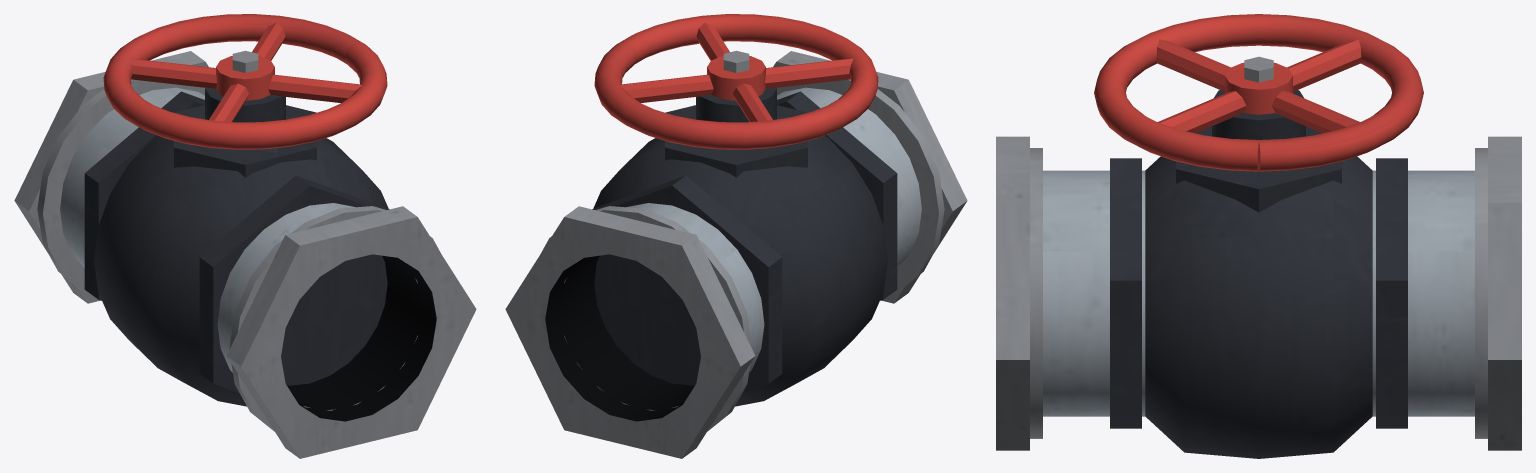
Rendered from valve.glb.
3 views of the same model, side by side, from view 1: azimuth 30°, elevation 25°; view 2: azimuth 150°, elevation 25°; view 3: azimuth 270°, elevation 25° (orthographic). The views are drawn at different scales.
Visible parts, largest first — view 1: Body.009; view 2: Body.009; view 3: Body.009.
Boxes of the visible parts, <box> form: Body.009: <box>14,14,476,458</box>; Body.009: <box>505,14,967,458</box>; Body.009: <box>996,14,1521,458</box>.
Bounding box in the file's own units: 0.156 × 0.197 × 0.247.
5 materials, 4 textured.
